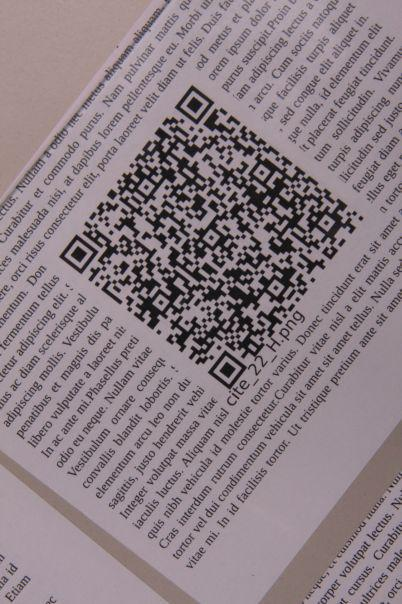Finder pattern: (172, 86, 217, 126), (59, 235, 97, 275), (206, 349, 244, 389)
